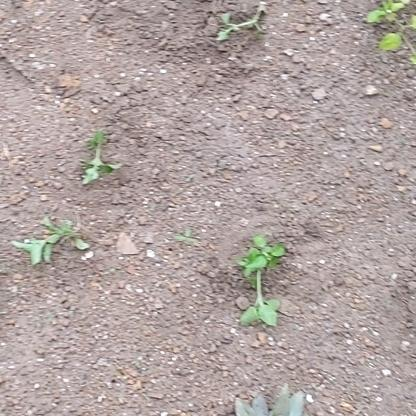weed: (235, 234, 288, 331), (10, 216, 93, 265), (364, 2, 416, 63), (79, 131, 124, 185), (213, 3, 270, 44)
